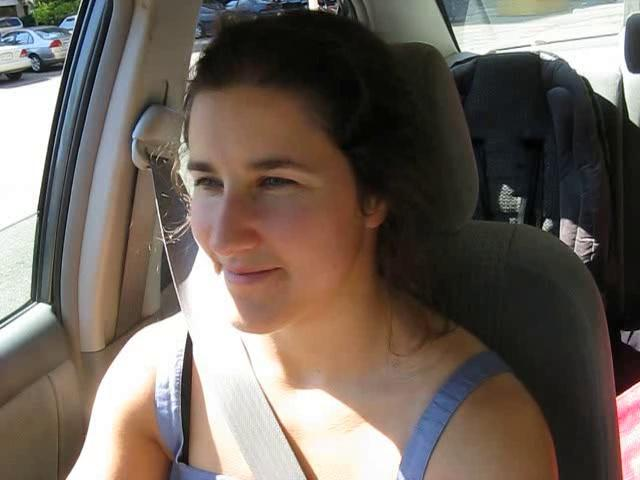close_eyeL: (181, 164, 231, 201)
close_eyeR: (242, 160, 325, 208)
no_yawn: (203, 246, 295, 302)
